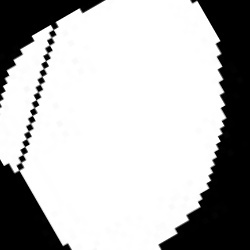spot: (1, 1, 228, 249)
